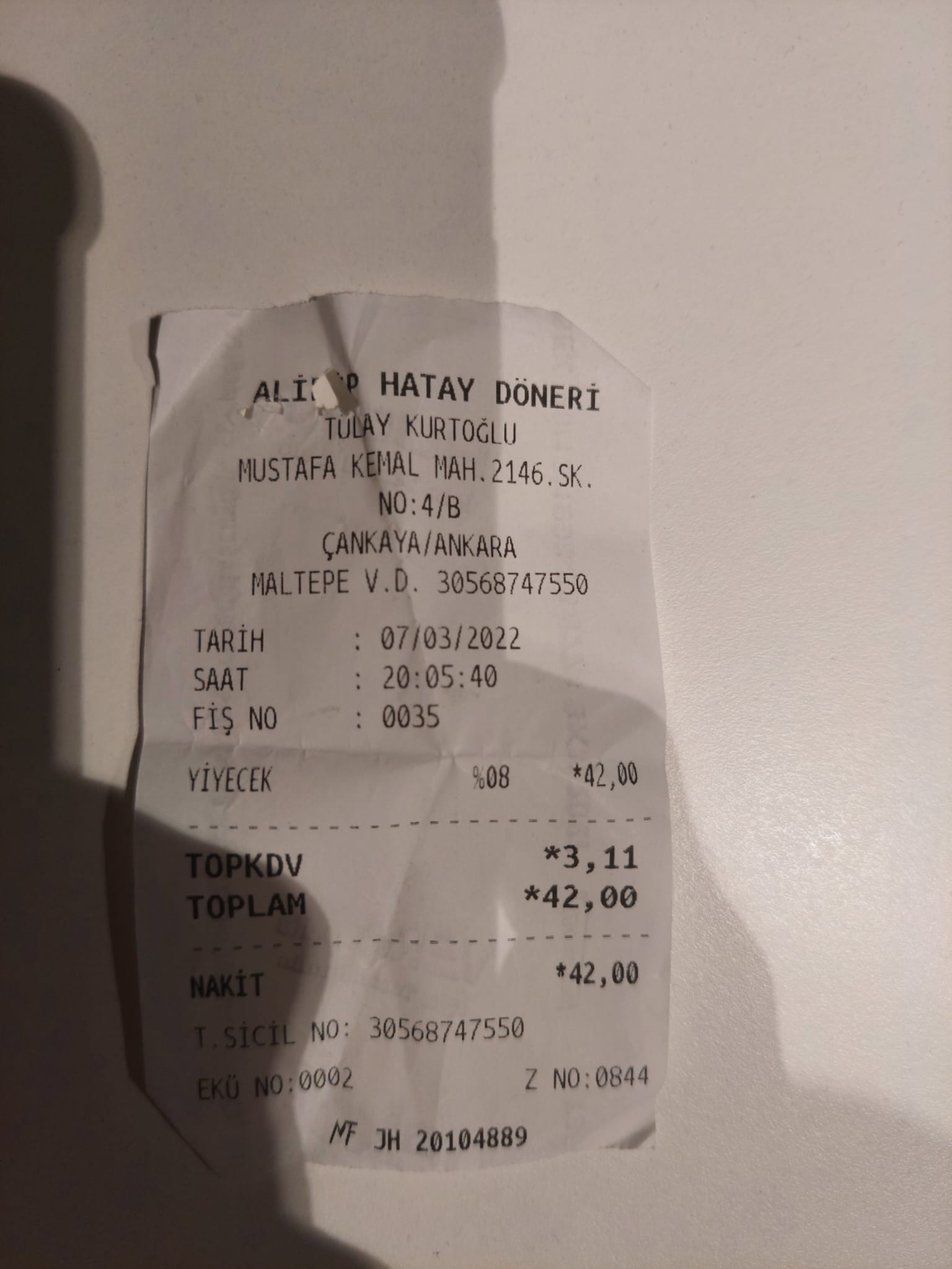date: (534, 872, 654, 922)
price: (367, 614, 532, 663)
workplace: (220, 361, 614, 565)
